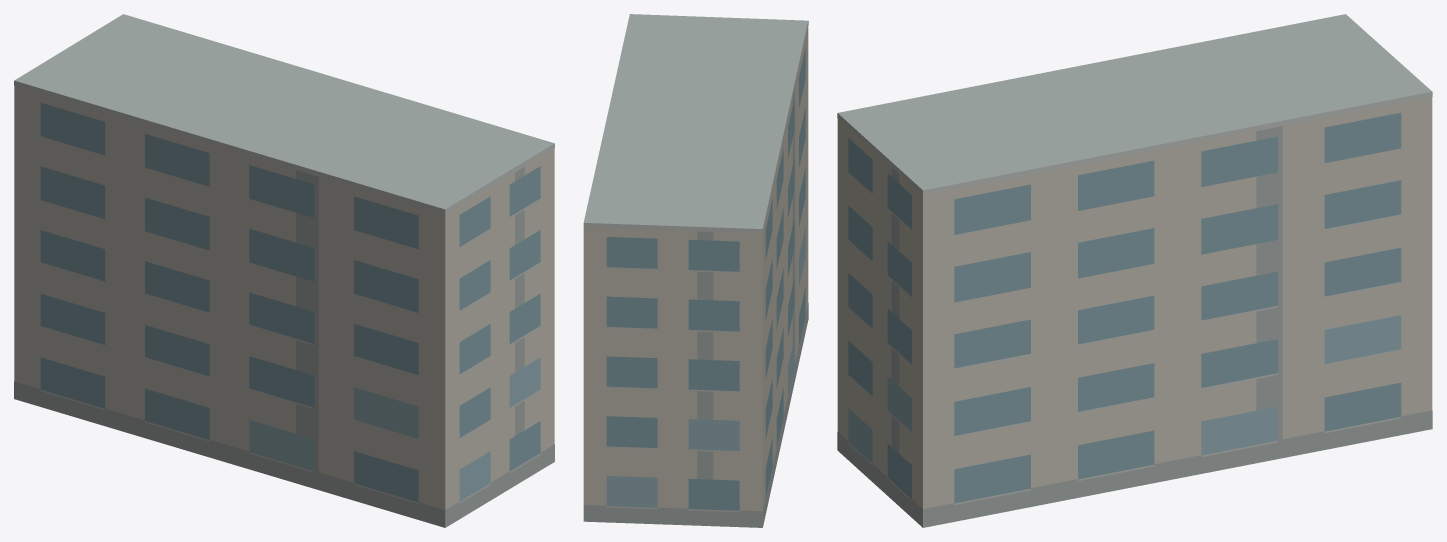
The model's file is survey-upis-32917526.glb.
3 renders of one model, left to right at view 1: azimuth 30°, elevation 25°; view 2: azimuth 150°, elevation 25°; view 3: azimuth 270°, elevation 25°, orthographic. The views are drawn at different scales.
Parts seen in each view (by area): view 1: survey-upis-32917526.tmp; view 2: survey-upis-32917526.tmp; view 3: survey-upis-32917526.tmp.
Part boxes in pixels (left/top/right/bottom): survey-upis-32917526.tmp: left=14, top=14, right=554, bottom=527; survey-upis-32917526.tmp: left=583, top=14, right=808, bottom=527; survey-upis-32917526.tmp: left=837, top=14, right=1432, bottom=527.
Size of the model in its own units: 17.11 by 15.25 by 24.37.
